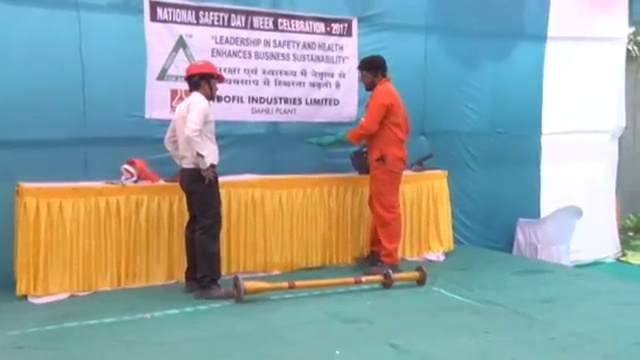helmet: (182, 57, 225, 84)
helmet_off: (358, 53, 389, 90)
helmet_on: (183, 58, 226, 101)
person: (162, 56, 235, 301), (347, 54, 409, 276)
